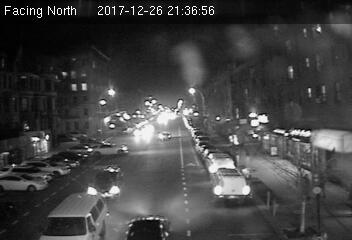car: (86, 165, 127, 200), (157, 132, 172, 141)
truck: (210, 169, 251, 205)
